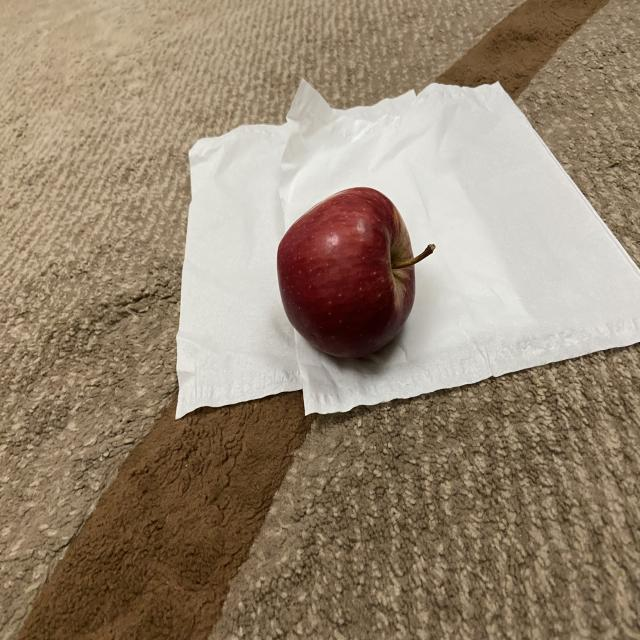apple: (275, 186, 437, 366)
